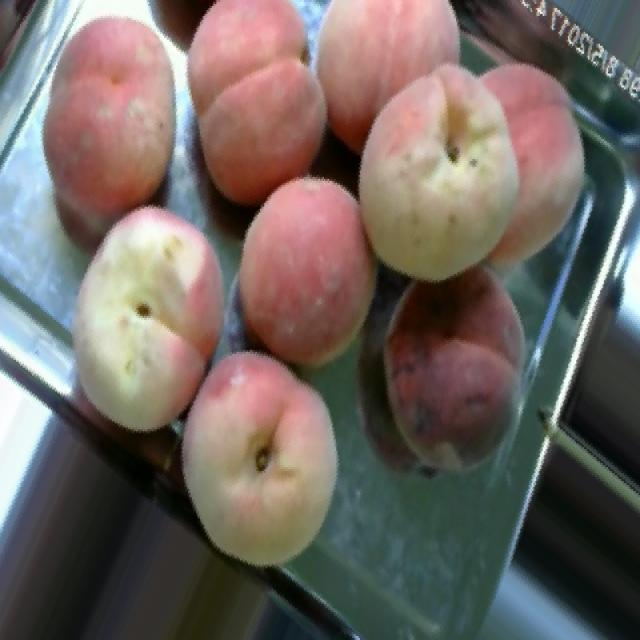Fruit: (144, 320, 381, 600), (341, 225, 568, 504), (39, 179, 249, 455), (12, 0, 210, 268), (348, 38, 539, 310), (226, 153, 414, 407), (173, 0, 327, 227)
